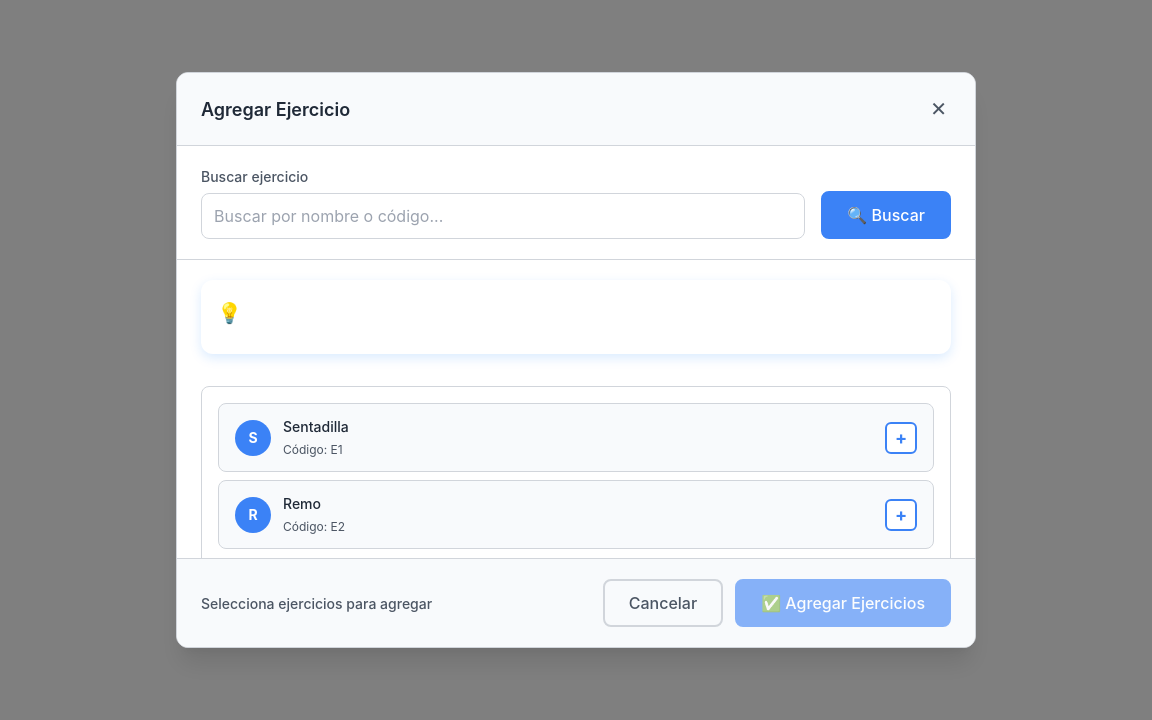
Test: ExerciseSearch › carga, selecciona con teclado, cambia grupo y agrega ejercicios
Press Enter in the button with aria-label "Seleccionar ejercicio Sentadilla", box [218, 403, 934, 472]
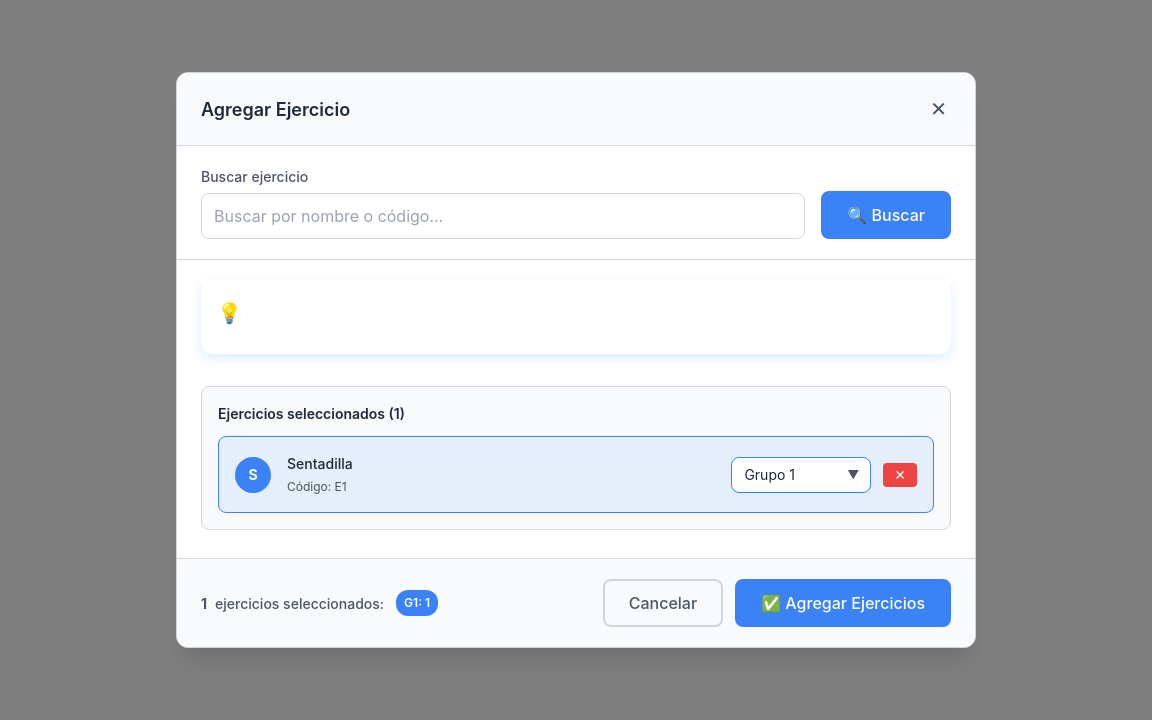
Expected: the heading "Ejercicios seleccionados (1)" is shown, [218, 405, 405, 422]
Select "Grupo 2" in the dropdown at (801, 474), box [731, 456, 871, 492]
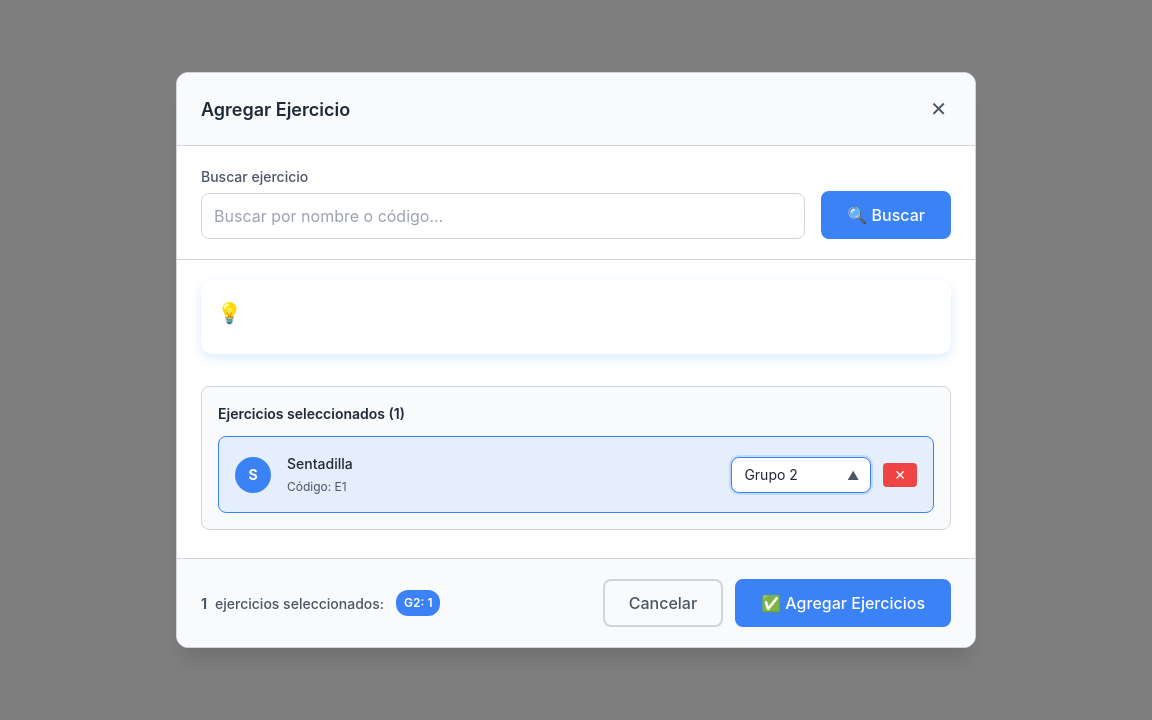
Click the button "✅ Agregar Ejercicios" at (843, 603), box [735, 579, 951, 627]
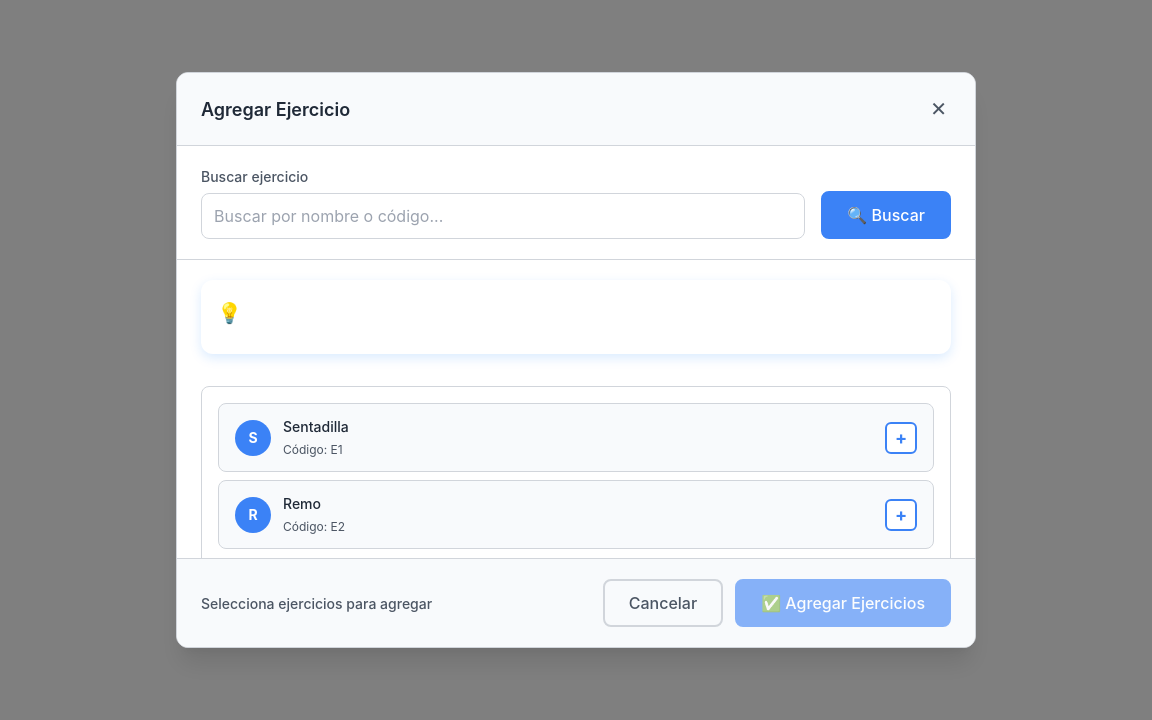
Expected: the text "Selecciona ejercicios para agregar" is shown, [201, 594, 432, 612]
